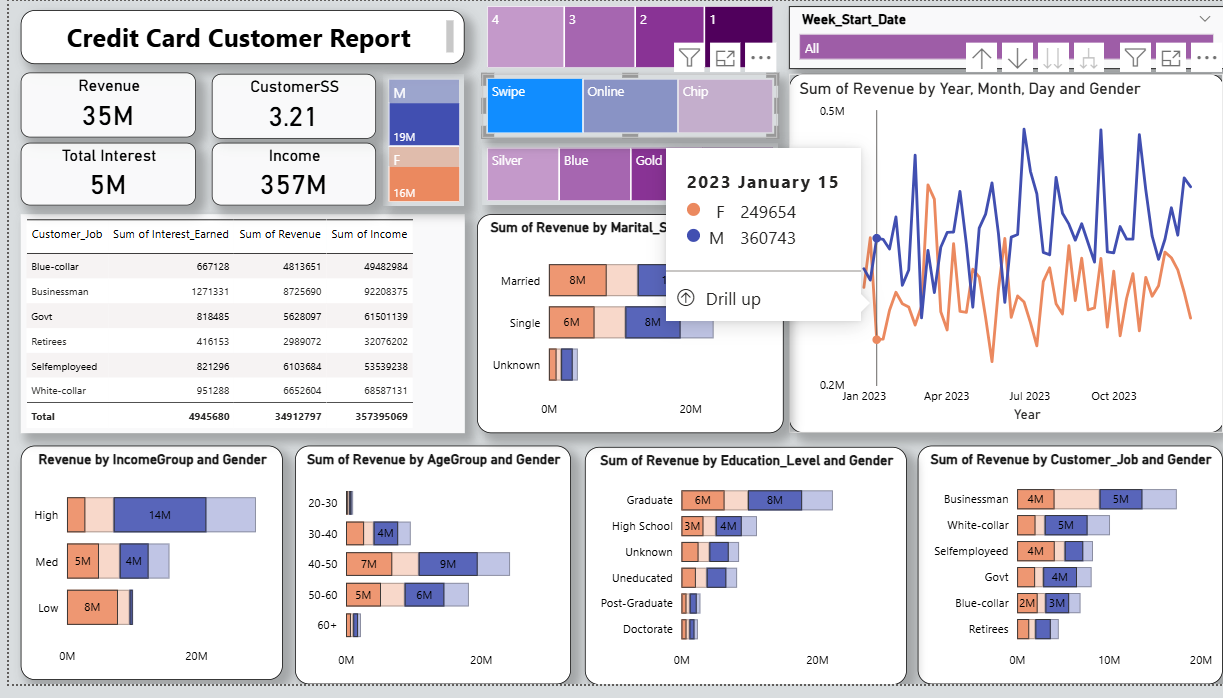

The page's visual inventory and layout, read from the dashboard file:
{"tool":"powerbi","page":{"name":"Custmer2","canvas":[1280,720],"ordinal":1},"visuals":[{"type":"textbox","box":[12.9,9,467.5,56.8],"z":0},{"type":"barChart","title":"Revenue by IncomeGroup and Gender","fields":{"Y":["Sum(credit_card_detail.Revenue)"],"Category":["customer_detail.IncomeGroup"],"Series":["customer_detail.Gender"]},"box":[12.9,468.7,276.3,246.6],"z":1000},{"type":"tableEx","fields":{"Values":["customer_detail.Customer_Job","Sum(credit_card_detail.Interest_Earned)","Sum(credit_card_detail.Revenue)","Sum(customer_detail.Income)"]},"box":[12.9,224.7,467.5,231.1],"z":2000},{"type":"slicer","fields":{"Values":["credit_card_detail.Week_Start_Date"]},"box":[821.3,5.2,458.4,65.9],"z":3000},{"type":"treemap","fields":{"Group":["credit_card_detail.Qtr"],"Values":["Avg(credit_card_detail.Client_Num)"]},"box":[498.4,0,311.2,74.9],"z":4000},{"type":"treemap","fields":{"Group":["credit_card_detail.Card_Category"],"Values":["Avg(credit_card_detail.Client_Num)"]},"box":[498.4,149.8,311.2,65.9],"z":5000},{"type":"treemap","fields":{"Group":["credit_card_detail.Use_Chip"],"Values":["Avg(credit_card_detail.Client_Num)"]},"box":[498.4,76.2,311.2,67.1],"z":6000},{"type":"card","title":"Revenue","fields":{"Values":["Sum(credit_card_detail.Revenue)"]},"box":[12.9,74.9,184.7,68.4],"z":7000},{"type":"card","title":"Total Interest","fields":{"Values":["Sum(credit_card_detail.Interest_Earned)"]},"box":[12.9,149.8,184.7,65.9],"z":8000},{"type":"card","title":"CustomerSS","fields":{"Values":["Avg(customer_detail.Cust_Satisfaction_Score)"]},"box":[214.4,76.2,173,68.4],"z":9000},{"type":"card","title":"Income","fields":{"Values":["Sum(customer_detail.Income)"]},"box":[214.4,149.8,173,65.9],"z":10000},{"type":"lineChart","fields":{"Series":["customer_detail.Gender"],"Y":["Sum(credit_card_detail.Revenue)"],"Category":["credit_card_detail.Week_Start_Date.Variation.Date Hierarchy.Year","credit_card_detail.Week_Start_Date.Variation.Date Hierarchy.Month","credit_card_detail.Week_Start_Date.Variation.Date Hierarchy.Day"]},"box":[821.3,76.2,458.4,378.4],"z":11000},{"type":"treemap","fields":{"Group":["customer_detail.Gender"],"Values":["Sum(credit_card_detail.Revenue)"]},"box":[395.1,76.2,85.2,139.5],"z":12000},{"type":"barChart","fields":{"Y":["Sum(credit_card_detail.Revenue)"],"Category":["customer_detail.AgeGroup"],"Series":["customer_detail.Gender"]},"box":[300.9,468.7,290.5,251.8],"z":13000},{"type":"barChart","fields":{"Y":["Sum(credit_card_detail.Revenue)"],"Category":["customer_detail.Customer_Job"],"Series":["customer_detail.Gender"]},"box":[958.1,468.7,321.5,251.8],"z":14000},{"type":"barChart","fields":{"Y":["Sum(credit_card_detail.Revenue)"],"Category":["customer_detail.Education_Level"],"Series":["customer_detail.Gender"]},"box":[606.9,470,339.6,250.5],"z":15000},{"type":"barChart","fields":{"Y":["Sum(credit_card_detail.Revenue)"],"Category":["customer_detail.Marital_Status"],"Series":["customer_detail.Gender"]},"box":[493.3,224.7,322.8,231.1],"z":17000}]}

Visuals, with their boxes in screenshot pixels (x1, y1, x2, y2), scaled from the page's 1280x720 canvas onto the 1223x698 screenshot:
textbox: Rect(12, 9, 459, 64)
"Revenue by IncomeGroup and Gender" barChart: Rect(12, 454, 276, 693)
tableEx - customer_detail.Customer_Job x Sum(credit_card_detail.Interest_Earned): Rect(12, 218, 459, 442)
slicer - credit_card_detail.Week_Start_Date: Rect(785, 5, 1222, 69)
treemap - credit_card_detail.Qtr x Avg(credit_card_detail.Client_Num): Rect(476, 0, 774, 73)
treemap - credit_card_detail.Card_Category x Avg(credit_card_detail.Client_Num): Rect(476, 145, 774, 209)
treemap - credit_card_detail.Use_Chip x Avg(credit_card_detail.Client_Num): Rect(476, 74, 774, 139)
"Revenue" card: Rect(12, 73, 189, 139)
"Total Interest" card: Rect(12, 145, 189, 209)
"CustomerSS" card: Rect(205, 74, 370, 140)
"Income" card: Rect(205, 145, 370, 209)
lineChart - customer_detail.Gender x Sum(credit_card_detail.Revenue): Rect(785, 74, 1222, 441)
treemap - customer_detail.Gender x Sum(credit_card_detail.Revenue): Rect(378, 74, 459, 209)
barChart - Sum(credit_card_detail.Revenue) x customer_detail.AgeGroup: Rect(288, 454, 565, 697)
barChart - Sum(credit_card_detail.Revenue) x customer_detail.Customer_Job: Rect(915, 454, 1222, 697)
barChart - Sum(credit_card_detail.Revenue) x customer_detail.Education_Level: Rect(580, 456, 904, 697)
barChart - Sum(credit_card_detail.Revenue) x customer_detail.Marital_Status: Rect(471, 218, 780, 442)
